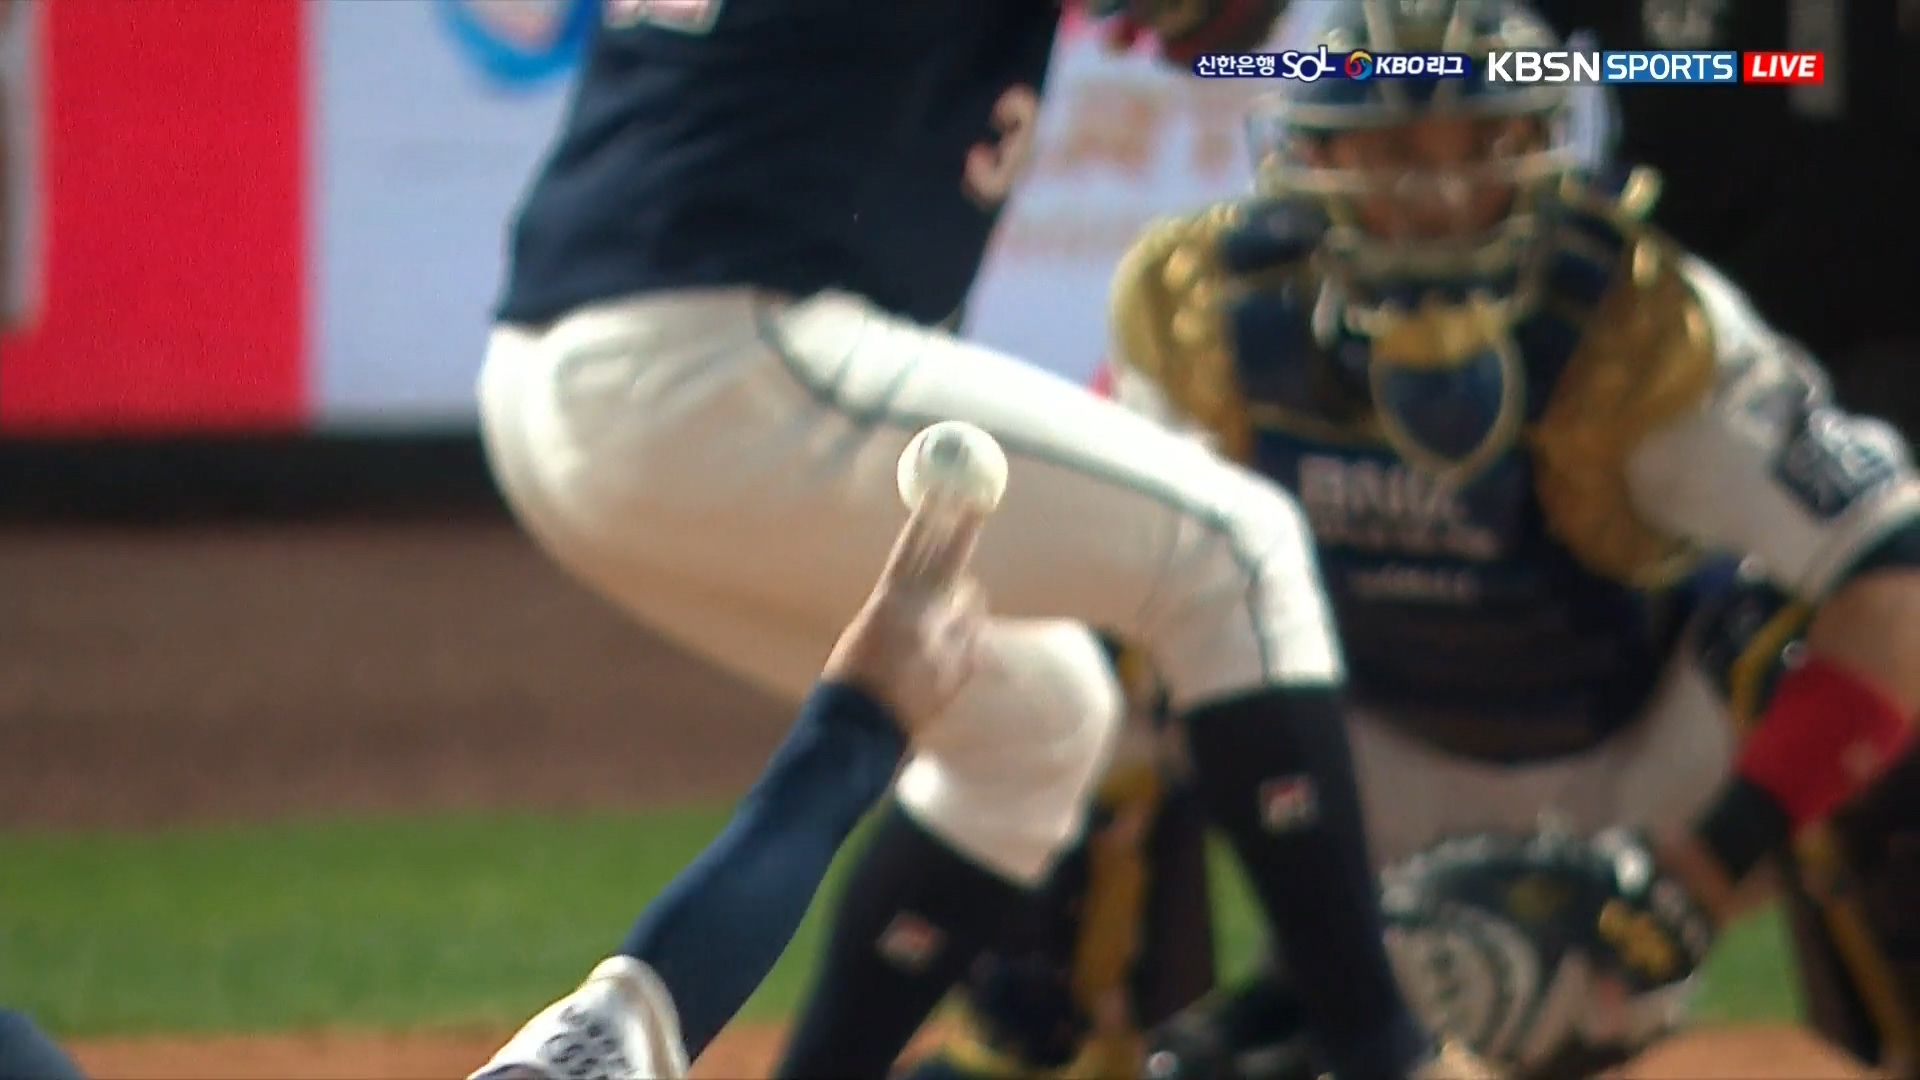zoomin_hand: (637, 400, 1036, 1018)
